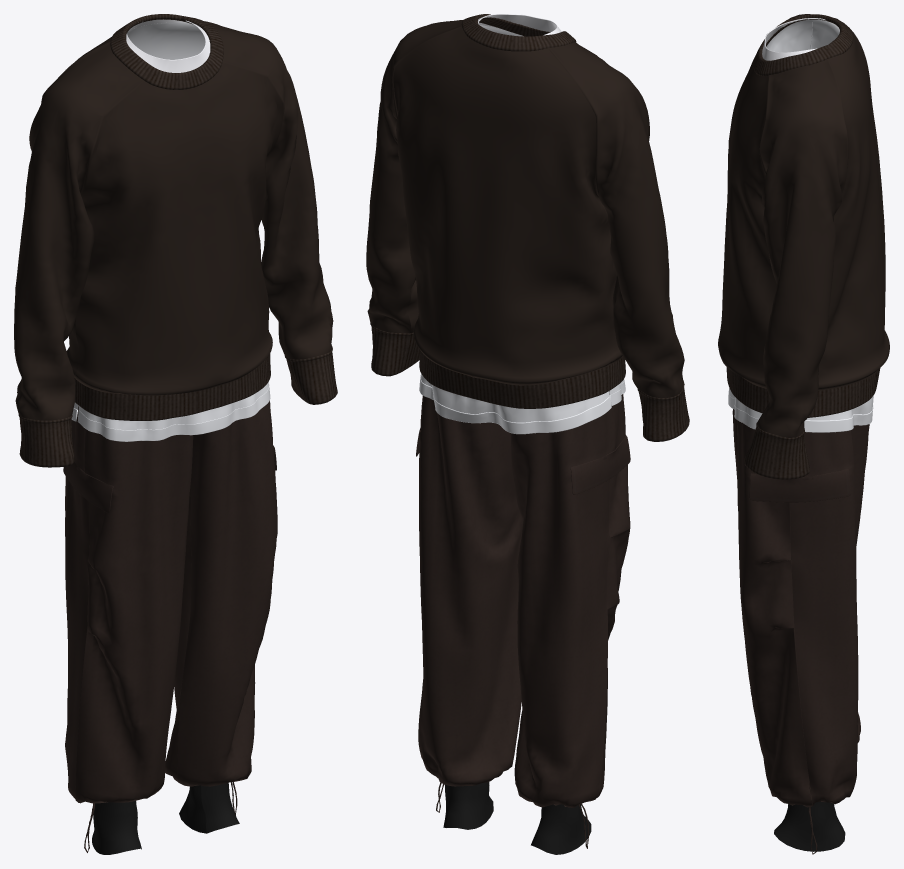
File: black_simple_outfit.glb
3 renders of one model, left to right at view 1: azimuth 30°, elevation 25°; view 2: azimuth 150°, elevation 25°; view 3: azimuth 270°, elevation 25°, orthographic. The views are drawn at different scales.
Parts seen in each view (by area): view 1: Object_3, Object_2, Object_13, Object_15, Object_4, Object_16, Object_5, Object_9, Object_17, Object_7, Object_10; view 2: Object_4, Object_17, Object_16, Object_2, Object_3, Object_5, Object_13, Object_9, Object_7, Object_15, Object_10; view 3: Object_2, Object_17, Object_4, Object_15, Object_3, Object_5, Object_9, Object_7, Object_10.
Boxes of the visible parts, <box> form: Object_3: <box>74,63,282,420</box>; Object_2: <box>14,21,333,420</box>; Object_13: <box>75,429,193,803</box>; Object_15: <box>63,400,277,786</box>; Object_4: <box>18,14,337,467</box>; Object_16: <box>65,405,89,802</box>; Object_5: <box>92,782,239,854</box>; Object_9: <box>71,382,270,441</box>; Object_17: <box>84,489,237,852</box>; Object_7: <box>73,22,205,409</box>; Object_10: <box>126,19,210,72</box>; Object_4: <box>370,14,689,441</box>; Object_17: <box>418,395,588,848</box>; Object_16: <box>510,391,614,807</box>; Object_2: <box>366,19,684,397</box>; Object_3: <box>419,228,625,408</box>; Object_5: <box>443,782,591,854</box>; Object_13: <box>596,394,630,797</box>; Object_9: <box>419,24,625,434</box>; Object_7: <box>421,374,609,422</box>; Object_15: <box>416,428,630,754</box>; Object_10: <box>478,14,561,35</box>; Object_2: <box>757,14,848,437</box>; Object_17: <box>790,424,869,854</box>; Object_4: <box>744,14,889,479</box>; Object_15: <box>732,409,850,807</box>; Object_3: <box>718,55,880,417</box>; Object_5: <box>774,801,845,851</box>; Object_9: <box>728,19,873,432</box>; Object_7: <box>806,19,873,420</box>; Object_10: <box>762,18,833,60</box>.
Bounding box in the file's own units: 0.6095 × 1.53 × 0.3009.
3 materials, 3 textured.
